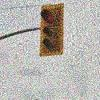traffic lights: (36, 3, 65, 57)
